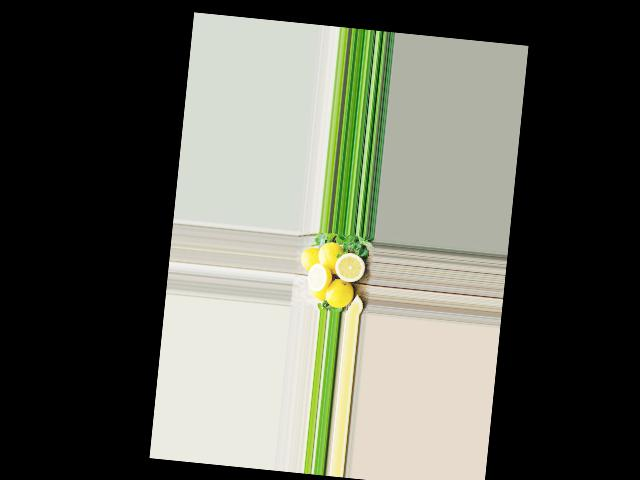lemon: (307, 284, 328, 302)
